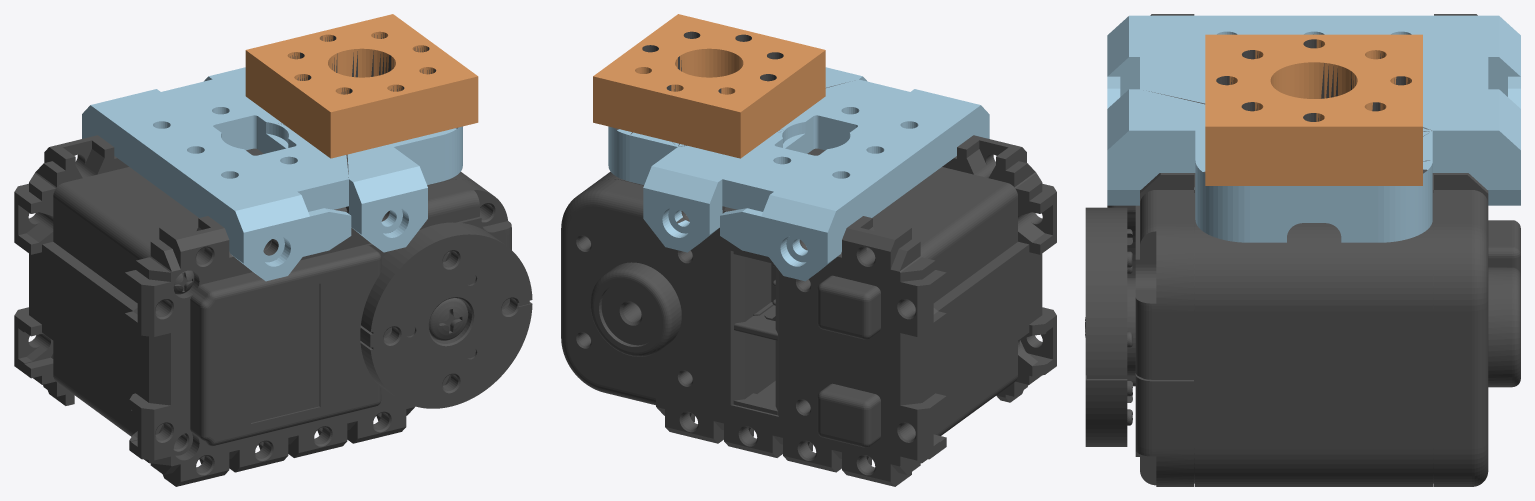
The picture shows the model from 3 angles, left to right: view 1: azimuth 30°, elevation 25°; view 2: azimuth 150°, elevation 25°; view 3: azimuth 270°, elevation 25°; orthographic projection. The views are drawn at different scales.
Visible parts, largest first — view 1: Front Right Sus V2; view 2: Front Right Sus V2; view 3: Front Right Sus V2.
Boxes of the visible parts, bbox=[...] form: Front Right Sus V2: bbox=[14, 14, 532, 486]; Front Right Sus V2: bbox=[561, 14, 1056, 486]; Front Right Sus V2: bbox=[1085, 14, 1520, 486].
Bounding box in the file's own units: 0.05 × 0.04 × 0.041.
